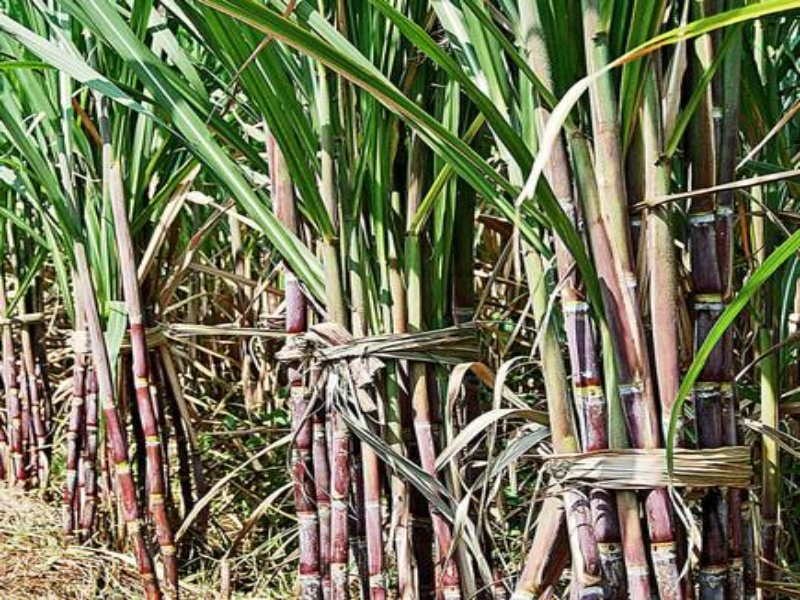sugarcane: (1, 1, 791, 594)
